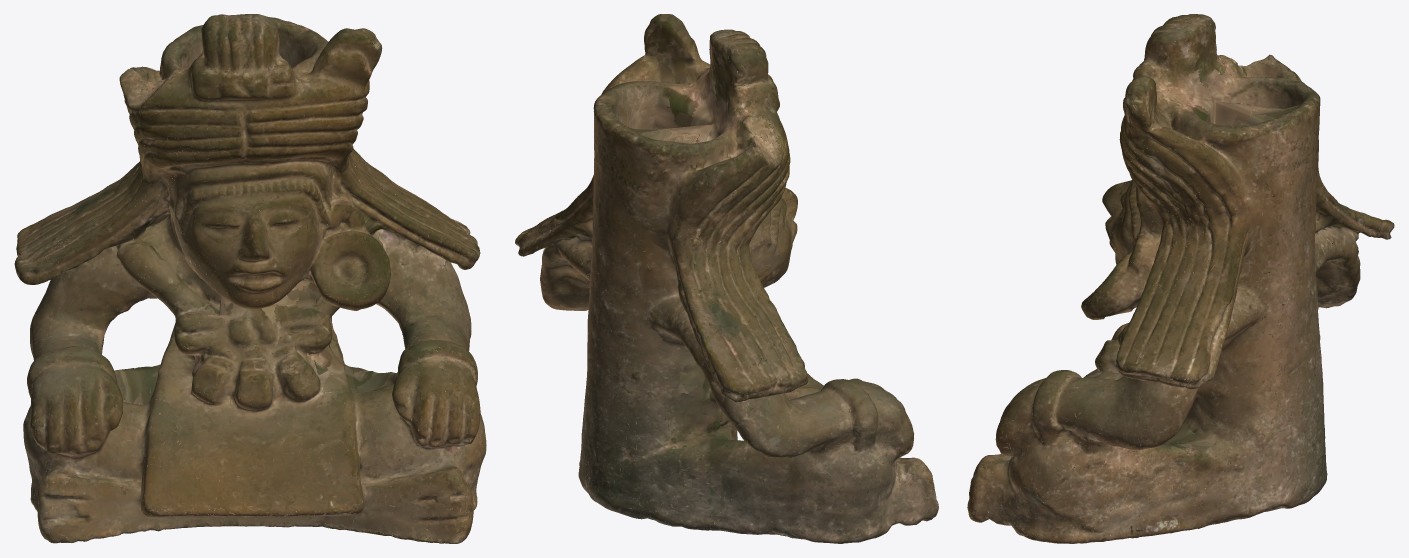
File: preview.glb
3 views of the same model, side by side, from view 1: azimuth 30°, elevation 25°; view 2: azimuth 150°, elevation 25°; view 3: azimuth 270°, elevation 25° (orthographic). The views are drawn at different scales.
Parts seen in each view (by area): view 1: Object_4, Object_5, Object_2, Object_25, Object_17, Object_18, Object_16, Object_15, Object_6, Object_24, Object_3, Object_7 (+11 smaller); view 2: Object_20, Object_21, Object_22, Object_6, Object_7, Object_18, Object_23, Object_17, Object_24, Object_19, Object_25, Object_16 (+3 smaller); view 3: Object_19, Object_20, Object_14, Object_15, Object_12, Object_3, Object_13, Object_11, Object_21, Object_2, Object_16, Object_22 (+6 smaller).
Part boxes in pixels (bbox=[...]): Object_4: bbox=[25, 24, 478, 543]; Object_5: bbox=[28, 31, 481, 543]; Object_2: bbox=[37, 24, 486, 541]; Object_25: bbox=[15, 24, 467, 542]; Object_17: bbox=[17, 14, 468, 524]; Object_18: bbox=[18, 15, 444, 533]; Object_16: bbox=[18, 14, 477, 512]; Object_15: bbox=[131, 14, 479, 511]; Object_6: bbox=[17, 32, 453, 539]; Object_24: bbox=[14, 18, 449, 541]; Object_3: bbox=[266, 37, 486, 509]; Object_7: bbox=[17, 29, 459, 539]; Object_20: bbox=[515, 15, 829, 538]; Object_21: bbox=[517, 21, 904, 542]; Object_22: bbox=[520, 34, 929, 543]; Object_6: bbox=[631, 47, 938, 542]; Object_7: bbox=[621, 64, 938, 543]; Object_18: bbox=[608, 34, 938, 535]; Object_23: bbox=[649, 65, 936, 542]; Object_17: bbox=[597, 17, 929, 499]; Object_24: bbox=[668, 49, 938, 539]; Object_19: bbox=[518, 15, 769, 507]; Object_25: bbox=[676, 21, 938, 534]; Object_16: bbox=[517, 14, 914, 459]; Object_19: bbox=[975, 21, 1380, 543]; Object_20: bbox=[1071, 19, 1394, 543]; Object_14: bbox=[971, 36, 1314, 542]; Object_15: bbox=[970, 17, 1314, 520]; Object_12: bbox=[969, 46, 1306, 543]; Object_3: bbox=[972, 44, 1276, 542]; Object_13: bbox=[968, 36, 1300, 534]; Object_11: bbox=[974, 126, 1310, 543]; Object_21: bbox=[1093, 17, 1384, 529]; Object_2: bbox=[967, 19, 1225, 541]; Object_16: bbox=[975, 14, 1392, 483]; Object_22: bbox=[1173, 19, 1360, 493].
Bounding box in the file's own units: 159 × 165 × 143.
Materials: 24 (24 with a texture image).
